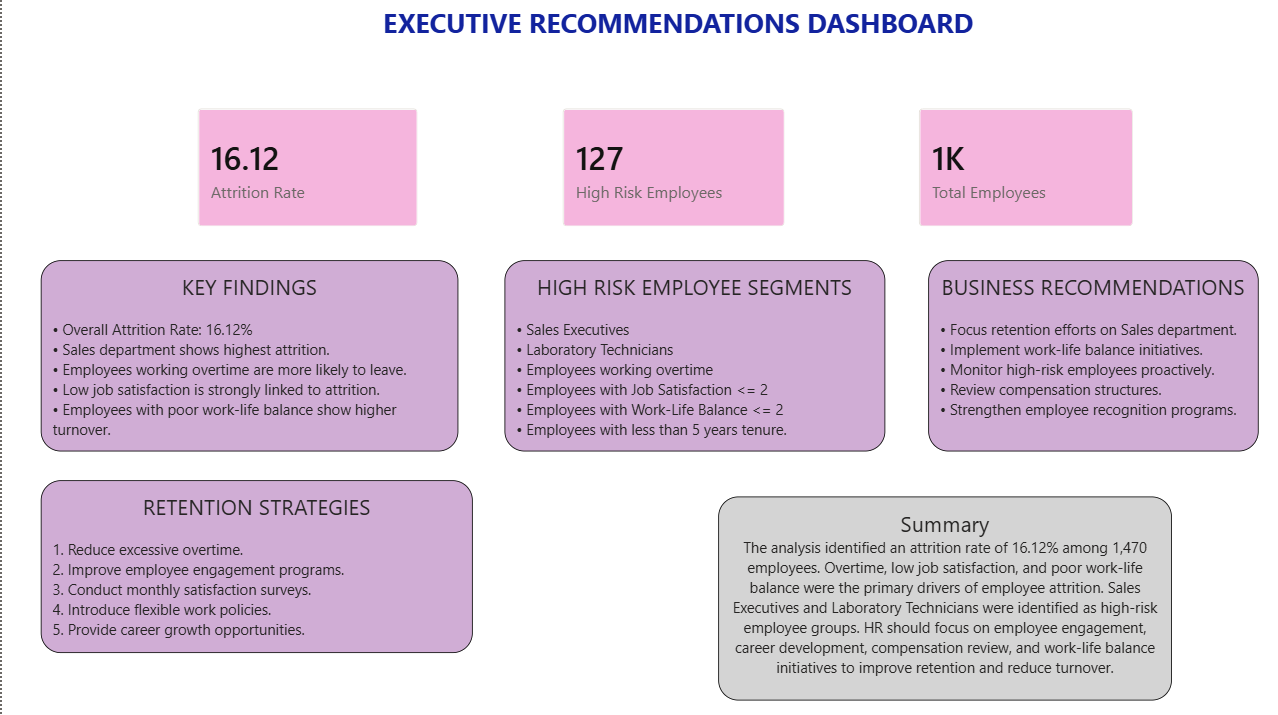

The page's visual inventory and layout, read from the dashboard file:
{"tool":"powerbi","page":{"name":"Executive Recommendations & Business Insights","canvas":[1280,720],"ordinal":4},"visuals":[{"type":"textbox","box":[38.4,261.8,417.9,190.9],"z":0},{"type":"textbox","box":[503.1,261.8,380.6,190.9],"z":1},{"type":"textbox","box":[38.4,481.5,432.3,172.9],"z":2},{"type":"textbox","box":[925.8,261.8,330.2,190.9],"z":3},{"type":"cardVisual","fields":{"Data":["WA_Fn-UseC_-HR-Employee-Attrition.Attrition Rate"]},"box":[178.9,92.5,254.6,152.5],"z":4},{"type":"cardVisual","fields":{"Data":["WA_Fn-UseC_-HR-Employee-Attrition.High Risk Employees"]},"box":[543.9,92.5,257,152.5],"z":5},{"type":"cardVisual","fields":{"Data":["WA_Fn-UseC_-HR-Employee-Attrition.Total Employees"]},"box":[900.6,92.5,248.6,152.5],"z":6},{"type":"textbox","box":[319.4,0,704.8,64.8],"z":7},{"type":"textbox","box":[716.8,497.1,453.9,204.1],"z":8}]}

Visuals, with their boxes in screenshot pixels (x1, y1, x2, y2), scaled from the page's 1280x720 canvas onto the 1278x715 screenshot:
textbox: {"x1": 38, "y1": 260, "x2": 456, "y2": 450}
textbox: {"x1": 502, "y1": 260, "x2": 882, "y2": 450}
textbox: {"x1": 38, "y1": 478, "x2": 470, "y2": 650}
textbox: {"x1": 924, "y1": 260, "x2": 1254, "y2": 450}
cardVisual - WA_Fn-UseC_-HR-Employee-Attrition.Attrition Rate: {"x1": 179, "y1": 92, "x2": 433, "y2": 243}
cardVisual - WA_Fn-UseC_-HR-Employee-Attrition.High Risk Employees: {"x1": 543, "y1": 92, "x2": 800, "y2": 243}
cardVisual - WA_Fn-UseC_-HR-Employee-Attrition.Total Employees: {"x1": 899, "y1": 92, "x2": 1147, "y2": 243}
textbox: {"x1": 319, "y1": 0, "x2": 1023, "y2": 64}
textbox: {"x1": 716, "y1": 494, "x2": 1169, "y2": 696}
